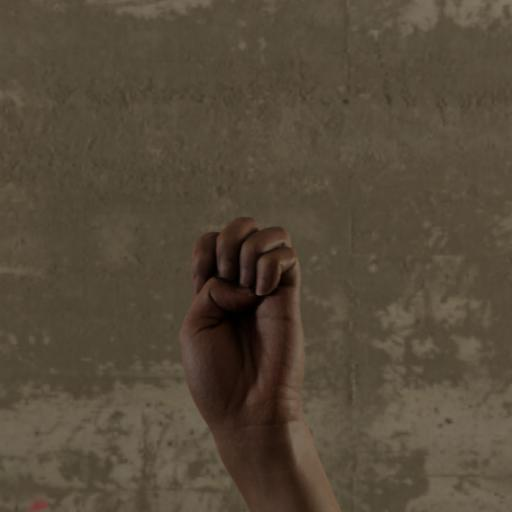E: (162, 196, 332, 438)
